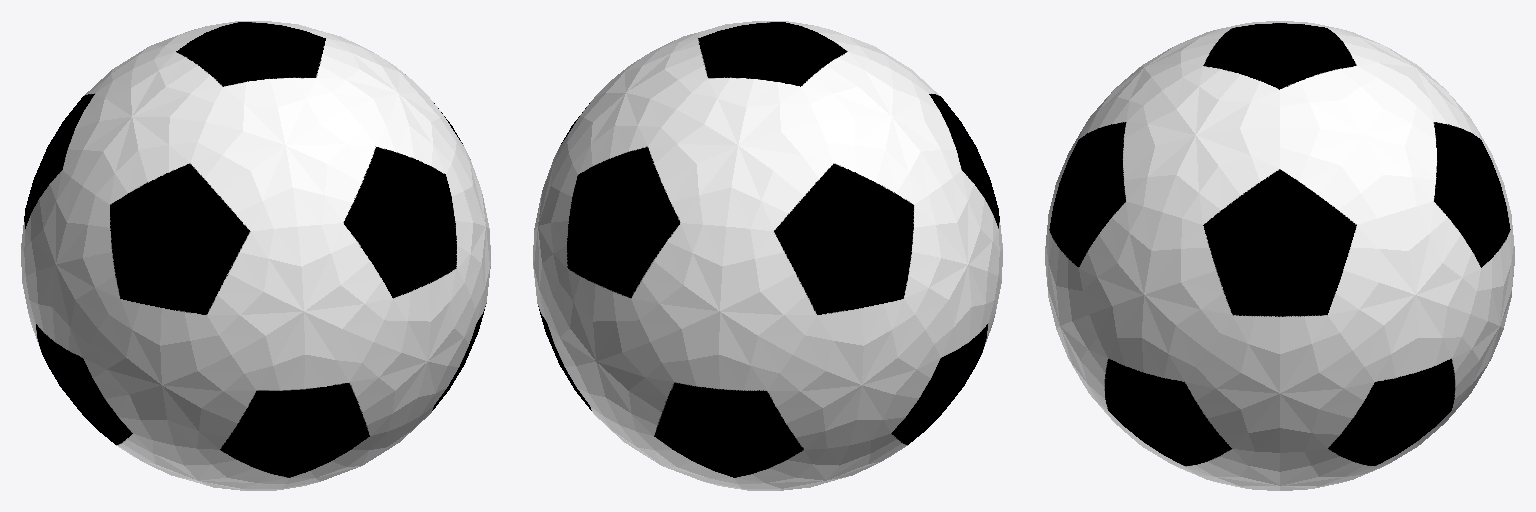
The picture shows the model from 3 angles: view 1: azimuth 30°, elevation 25°; view 2: azimuth 150°, elevation 25°; view 3: azimuth 270°, elevation 25°; orthographic projection.
Visible parts, largest first — view 1: Soccerball; view 2: Soccerball; view 3: Soccerball.
Boxes of the visible parts, box(x1,y1,x2,y2) form: Soccerball: box(21, 21, 490, 490); Soccerball: box(533, 21, 1002, 490); Soccerball: box(1045, 21, 1514, 490).
Size of the model in its own units: 0.9883 by 0.9883 by 0.9883.
Materials: 2 (1 with a texture image).